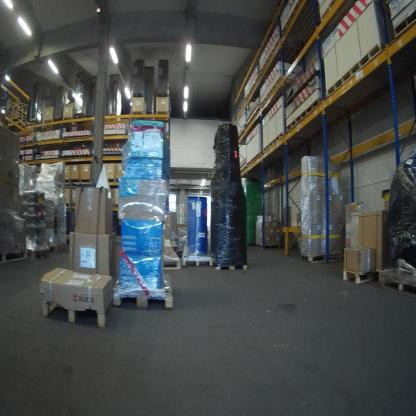pallet: (111, 276, 174, 311), (301, 250, 344, 265), (380, 277, 416, 294), (182, 248, 214, 267), (162, 246, 181, 272), (0, 248, 28, 265), (212, 259, 248, 271), (28, 247, 50, 259), (9, 105, 27, 114), (55, 242, 68, 251), (73, 114, 86, 119), (53, 117, 63, 122), (157, 93, 168, 97), (132, 94, 143, 98), (28, 122, 36, 126)
